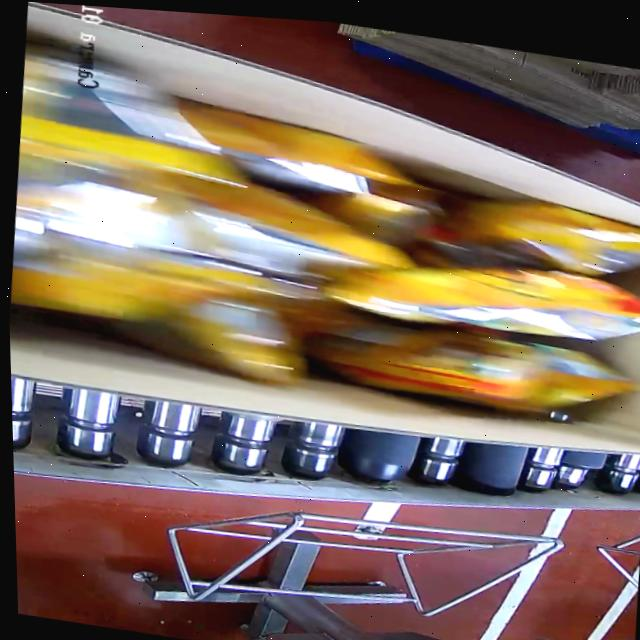FRENCH_CHEESE: (2, 82, 640, 448)
